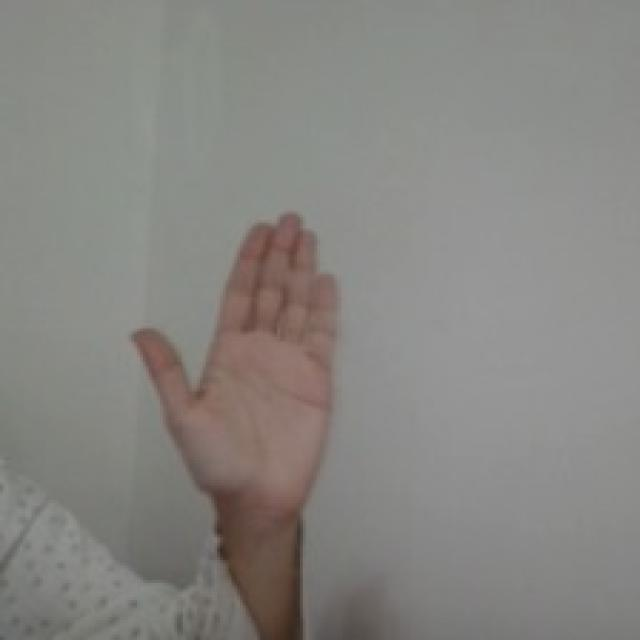Hello: (122, 205, 346, 522)
